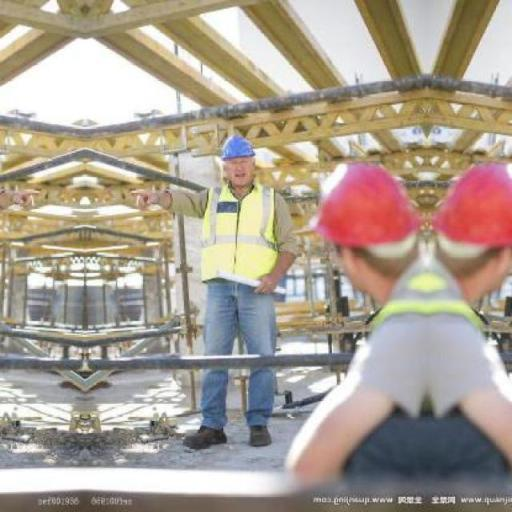helmet: (302, 155, 427, 266), (424, 158, 512, 264), (210, 130, 264, 168)
vest: (184, 181, 290, 297)
